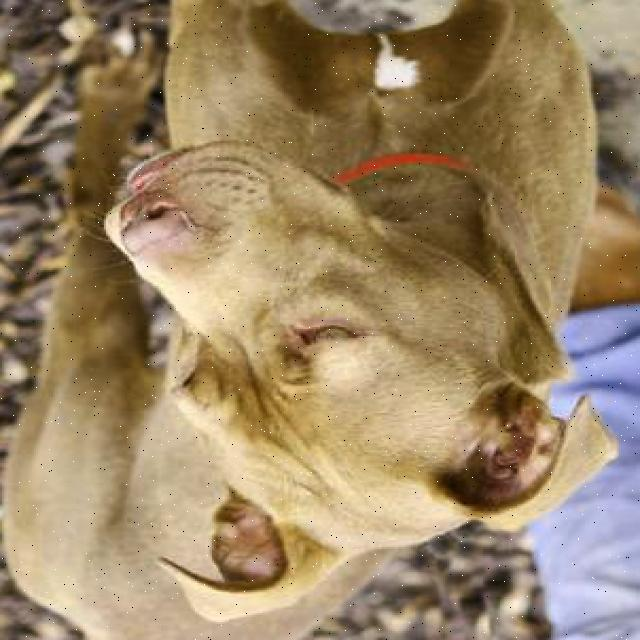Dog: (99, 116, 602, 631)
